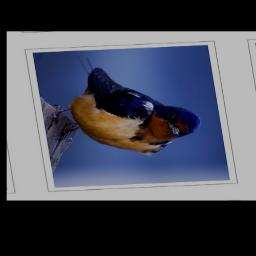Swallow: (36, 49, 209, 160)
